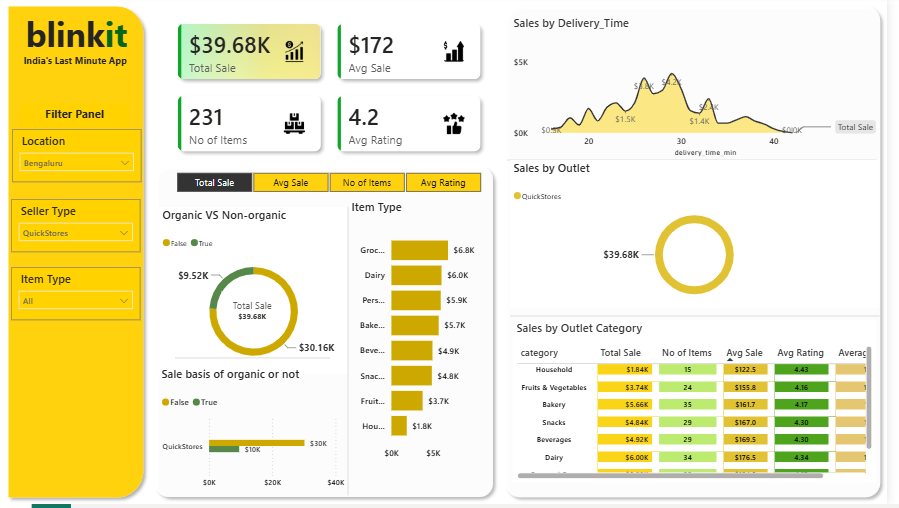

The page's visual inventory and layout, read from the dashboard file:
{"tool":"powerbi","page":{"name":"Page 1","canvas":[1280,720],"ordinal":0},"visuals":[{"type":"slicer","box":[29.8,190.5,184.6,75.9],"z":0},{"type":"shape","box":[225.6,229,500.3,490.4],"z":1000},{"type":"shape","box":[15.6,0,211.2,720],"z":2000},{"type":"textbox","box":[29.8,9.9,184.3,83.6],"z":3000},{"type":"textbox","box":[0,72.3,240.9,31.2],"z":4000},{"type":"cardVisual","fields":{"Data":["blinkit_dataset.Total Sale","blinkit_dataset.Avg Sale","blinkit_dataset.No of Items","blinkit_dataset.Avg Rating"]},"box":[243.1,10,480.5,230.3],"z":5000},{"type":"shape","box":[726.3,0,553.7,719.5],"z":6000},{"type":"donutChart","title":"Organic VS Non-organic","fields":{"Y":["blinkit_dataset.Total Sale"],"Category":["blinkit_dataset.is_organic"]},"box":[240.3,296,270.3,238.8],"z":7000},{"type":"slicer","fields":{"Values":["Metrics.Metrics"]},"box":[240.3,240.3,483.6,41],"z":8000},{"type":"cardVisual","fields":{"Data":["blinkit_dataset.Total Sale"]},"box":[325,411,98,64],"z":9000},{"type":"clusteredBarChart","title":"Sale basis of organic or not","fields":{"Y":["blinkit_dataset.Total Sale"],"Category":["blinkit_dataset.seller"],"Series":["blinkit_dataset.is_organic"]},"box":[239.3,522.9,271.7,184.6],"z":10000},{"type":"shape","box":[263.4,501.6,221.1,19.8],"z":11000},{"type":"shape","box":[457.7,296,105.8,411.9],"z":12000},{"type":"barChart","title":"Item Type","fields":{"Y":["blinkit_dataset.Total Sale"],"Category":["blinkit_dataset.category"]},"box":[510.5,284.3,197.4,381.9],"z":13000},{"type":"areaChart","title":"Sales by Delivery_Time","fields":{"Category":["blinkit_dataset.delivery_time_min"],"Y":["blinkit_dataset.Total Sale"]},"box":[740.8,21.5,527.7,207.4],"z":14000},{"type":"shape","box":[736.7,211.3,527.7,34.3],"z":15000},{"type":"donutChart","title":"Sales by Outlet ","fields":{"Y":["blinkit_dataset.Total Sale"],"Category":["blinkit_dataset.seller"]},"box":[741.2,229.2,526.9,211.3],"z":16000},{"type":"tableEx","title":"Sales by Outlet Category","fields":{"Values":["blinkit_dataset.category","blinkit_dataset.Total Sale","blinkit_dataset.No of Items","blinkit_dataset.Avg Sale","blinkit_dataset.Avg Rating","Avg(blinkit_dataset.stock)"]},"box":[745.5,457.8,518,232.2],"z":17000},{"type":"shape","box":[741.2,434.6,527.7,34.3],"z":18000},{"type":"slicer","fields":{"Values":["blinkit_dataset.city"]},"box":[29.8,184.6,184.6,75.9],"z":19000},{"type":"slicer","fields":{"Values":["blinkit_dataset.seller"]},"box":[28.3,284.3,184.6,75.9],"z":21000},{"type":"slicer","fields":{"Values":["blinkit_dataset.category"]},"box":[28.3,381,184.6,75.9],"z":22000},{"type":"textbox","box":[41.7,147.3,156.3,37.2],"z":23000}]}

Visuals, with their boxes in screenshot pixels (x1, y1, x2, y2), scaled from the page's 1280x720 canvas onto the 899x508 screenshot:
slicer: bbox(21, 134, 151, 188)
shape: bbox(158, 162, 510, 507)
shape: bbox(11, 0, 159, 507)
textbox: bbox(21, 7, 150, 66)
textbox: bbox(0, 51, 169, 73)
cardVisual - blinkit_dataset.Total Sale x blinkit_dataset.Avg Sale: bbox(171, 7, 508, 170)
shape: bbox(510, 0, 898, 507)
"Organic VS Non-organic" donutChart: bbox(169, 209, 359, 377)
slicer - Metrics.Metrics: bbox(169, 170, 508, 198)
cardVisual - blinkit_dataset.Total Sale: bbox(228, 290, 297, 335)
"Sale basis of organic or not" clusteredBarChart: bbox(168, 369, 359, 499)
shape: bbox(185, 354, 340, 368)
shape: bbox(321, 209, 396, 499)
"Item Type" barChart: bbox(359, 201, 497, 470)
"Sales by Delivery_Time" areaChart: bbox(520, 15, 891, 162)
shape: bbox(517, 149, 888, 173)
"Sales by Outlet " donutChart: bbox(521, 162, 891, 311)
"Sales by Outlet Category" tableEx: bbox(524, 323, 887, 487)
shape: bbox(521, 307, 891, 331)
slicer - blinkit_dataset.city: bbox(21, 130, 151, 184)
slicer - blinkit_dataset.seller: bbox(20, 201, 150, 254)
slicer - blinkit_dataset.category: bbox(20, 269, 150, 322)
textbox: bbox(29, 104, 139, 130)
